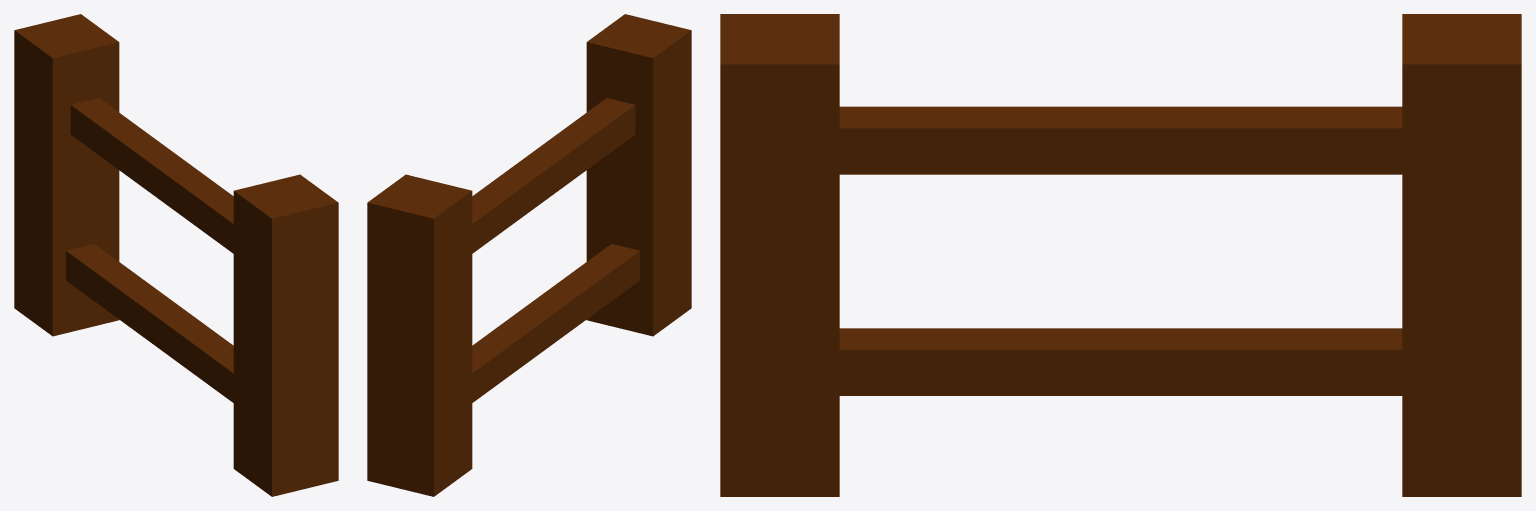
File: Fence.fbx
3 renders of one model, left to right at view 1: azimuth 30°, elevation 25°; view 2: azimuth 150°, elevation 25°; view 3: azimuth 270°, elevation 25°, orthographic. The views are drawn at different scales.
Visible parts, largest first — view 1: Cube; view 2: Cube; view 3: Cube.
Boxes of the visible parts, x1,y1,x2,y2 form: Cube: (14,14,338,496); Cube: (367,14,691,496); Cube: (720,14,1521,496).
Bounding box in the file's own units: 140 × 560 × 940.
